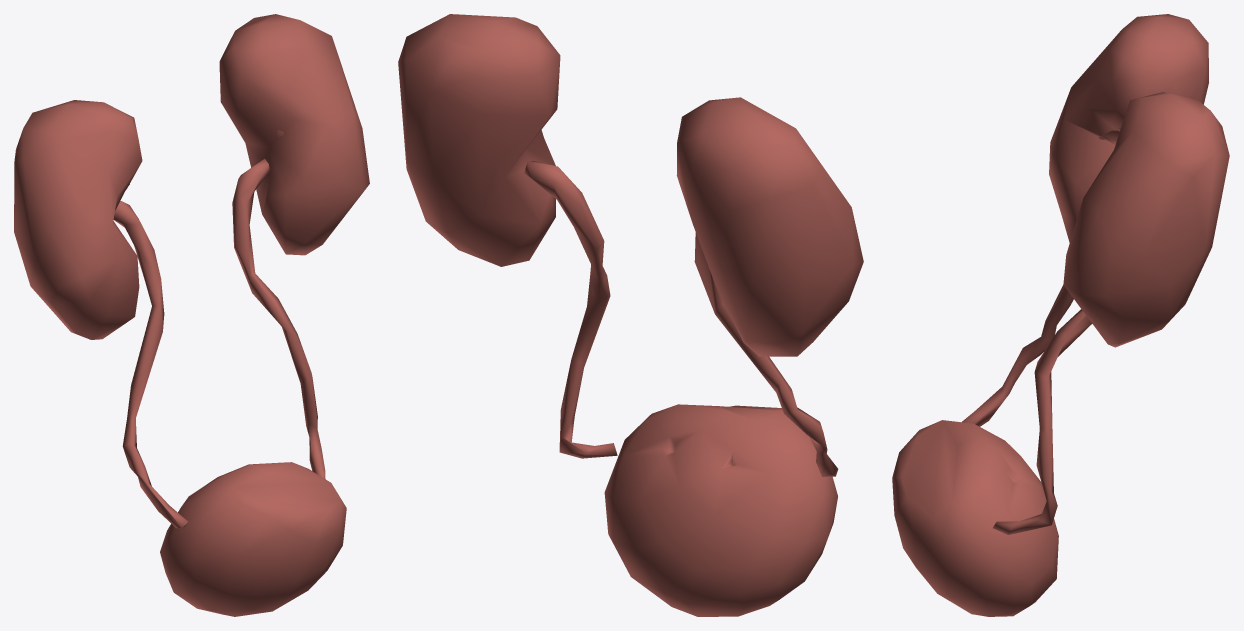
The model's file is pediatric_neonate_female.urinary.LOD3.glb.
The picture shows the model from 3 angles, left to right: view 1: azimuth 30°, elevation 25°; view 2: azimuth 150°, elevation 25°; view 3: azimuth 270°, elevation 25°; orthographic projection. The views are drawn at different scales.
Visible parts, largest first — view 1: PEDIATRIC.NEONATE.FEMALE.URINARY.KIDNEY_CORTEX.L, PEDIATRIC.NEONATE.FEMALE.URINARY.KIDNEY_CORTEX.R, PEDIATRIC.NEONATE.FEMALE.URINARY.URINARY_BLADDER_WALL, PEDIATRIC.NEONATE.FEMALE.URINARY.URETER.R, PEDIATRIC.NEONATE.FEMALE.URINARY.URETER.L; view 2: PEDIATRIC.NEONATE.FEMALE.URINARY.URINARY_BLADDER_WALL, PEDIATRIC.NEONATE.FEMALE.URINARY.KIDNEY_CORTEX.R, PEDIATRIC.NEONATE.FEMALE.URINARY.KIDNEY_CORTEX.L, PEDIATRIC.NEONATE.FEMALE.URINARY.URETER.L, PEDIATRIC.NEONATE.FEMALE.URINARY.URETER.R; view 3: PEDIATRIC.NEONATE.FEMALE.URINARY.KIDNEY_CORTEX.L, PEDIATRIC.NEONATE.FEMALE.URINARY.URINARY_BLADDER_WALL, PEDIATRIC.NEONATE.FEMALE.URINARY.KIDNEY_CORTEX.R, PEDIATRIC.NEONATE.FEMALE.URINARY.URETER.L, PEDIATRIC.NEONATE.FEMALE.URINARY.URETER.R.
Part boxes in pixels (left/top/right/bottom): PEDIATRIC.NEONATE.FEMALE.URINARY.KIDNEY_CORTEX.L: left=219, top=14, right=369, bottom=255; PEDIATRIC.NEONATE.FEMALE.URINARY.KIDNEY_CORTEX.R: left=14, top=100, right=142, bottom=339; PEDIATRIC.NEONATE.FEMALE.URINARY.URINARY_BLADDER_WALL: left=160, top=462, right=346, bottom=616; PEDIATRIC.NEONATE.FEMALE.URINARY.URETER.R: left=113, top=201, right=188, bottom=528; PEDIATRIC.NEONATE.FEMALE.URINARY.URETER.L: left=232, top=158, right=325, bottom=478; PEDIATRIC.NEONATE.FEMALE.URINARY.URINARY_BLADDER_WALL: left=604, top=404, right=837, bottom=616; PEDIATRIC.NEONATE.FEMALE.URINARY.KIDNEY_CORTEX.R: left=676, top=97, right=863, bottom=356; PEDIATRIC.NEONATE.FEMALE.URINARY.KIDNEY_CORTEX.L: left=398, top=14, right=560, bottom=266; PEDIATRIC.NEONATE.FEMALE.URINARY.URETER.L: left=524, top=161, right=617, bottom=458; PEDIATRIC.NEONATE.FEMALE.URINARY.URETER.R: left=694, top=232, right=838, bottom=476; PEDIATRIC.NEONATE.FEMALE.URINARY.KIDNEY_CORTEX.L: left=1063, top=92, right=1229, bottom=347; PEDIATRIC.NEONATE.FEMALE.URINARY.URINARY_BLADDER_WALL: left=892, top=420, right=1058, bottom=616; PEDIATRIC.NEONATE.FEMALE.URINARY.KIDNEY_CORTEX.R: left=1049, top=14, right=1208, bottom=242; PEDIATRIC.NEONATE.FEMALE.URINARY.URETER.L: left=993, top=309, right=1092, bottom=534; PEDIATRIC.NEONATE.FEMALE.URINARY.URETER.R: left=962, top=285, right=1073, bottom=426.
Size of the model in its own units: 0.0725 by 0.1048 by 0.0569.
